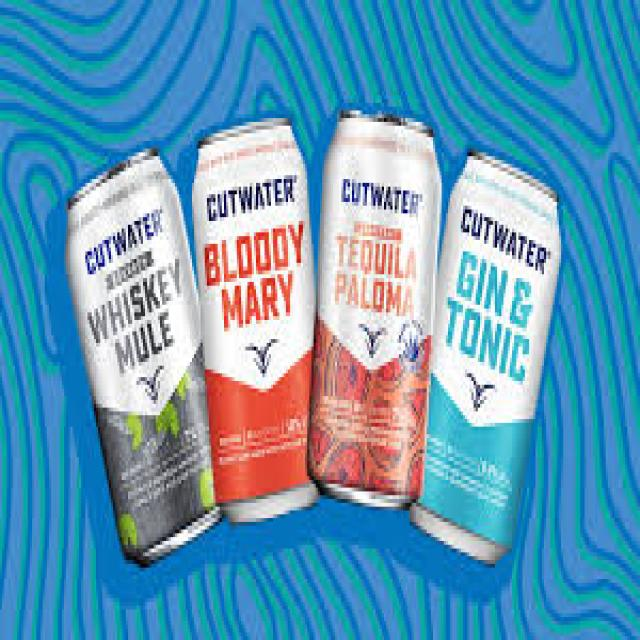Cans: (57, 141, 222, 571), (416, 137, 570, 579), (303, 80, 439, 533), (190, 110, 324, 530)
